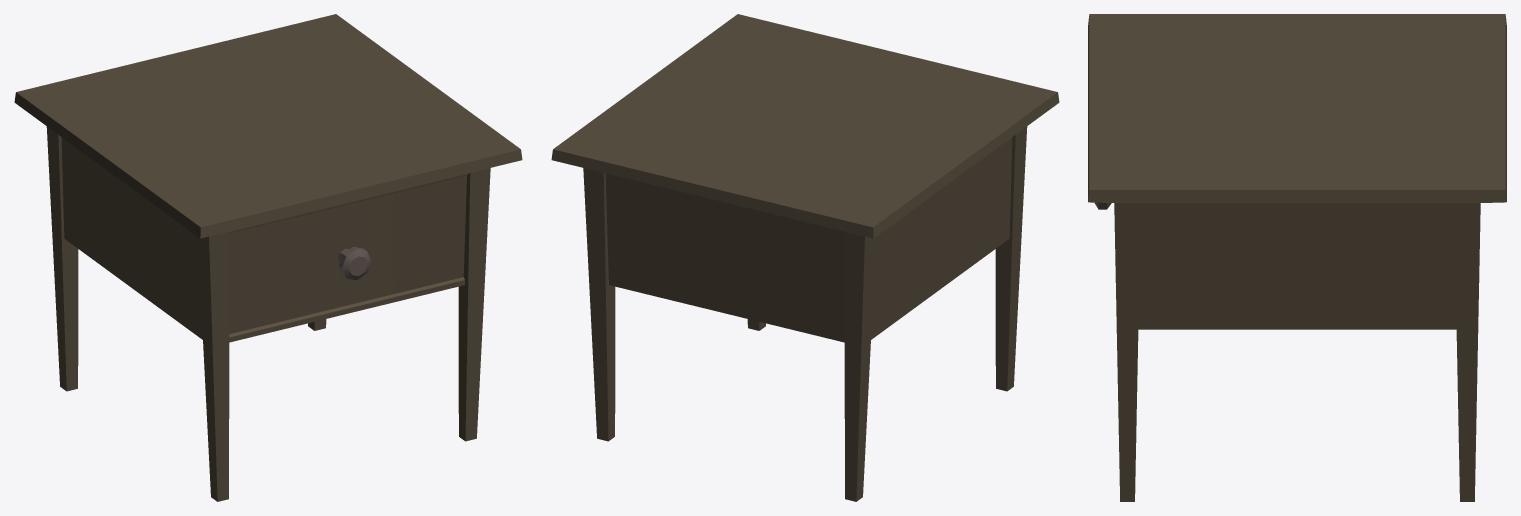
Rendered from NightStand_1.glb.
3 views of the same model, side by side, from view 1: azimuth 30°, elevation 25°; view 2: azimuth 150°, elevation 25°; view 3: azimuth 270°, elevation 25° (orthographic). The views are drawn at different scales.
Parts seen in each view (by area): view 1: NightStand_1_Cube.001; view 2: NightStand_1_Cube.001; view 3: NightStand_1_Cube.001.
Boxes of the visible parts, x1,y1,x2,y2 form: NightStand_1_Cube.001: (14,14,522,501); NightStand_1_Cube.001: (551,14,1059,501); NightStand_1_Cube.001: (1088,14,1506,501).
Size of the model in its own units: 0.9522 by 0.8249 by 0.9522.
